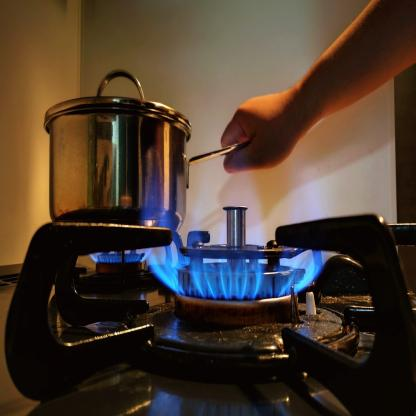fire: (82, 167, 323, 310)
